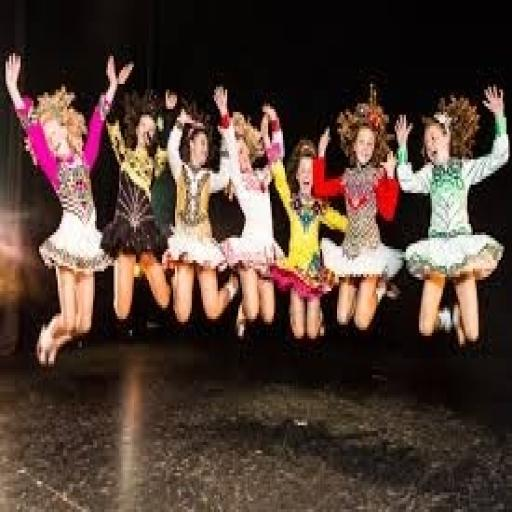dancing: (100, 50, 350, 380), (236, 102, 446, 381), (2, 48, 136, 372), (393, 81, 510, 353)
